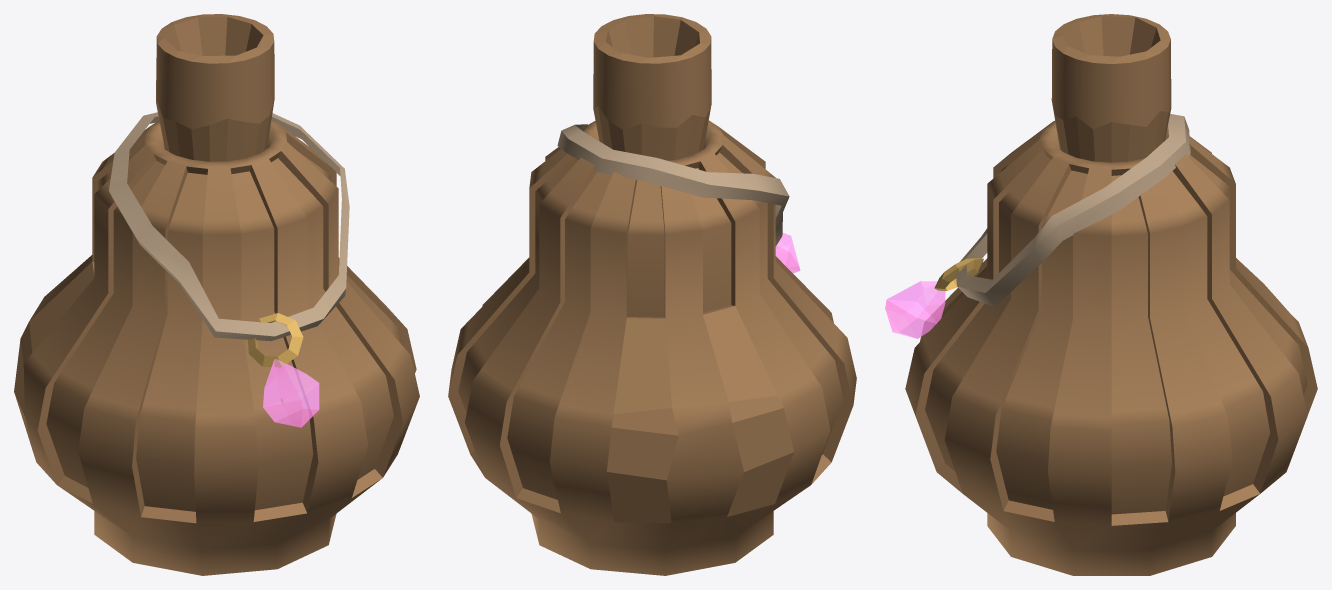
Rendered from bottle_asset_2.fbx.
The picture shows the model from 3 angles, left to right: view 1: azimuth 30°, elevation 25°; view 2: azimuth 150°, elevation 25°; view 3: azimuth 270°, elevation 25°; orthographic projection.
Parts seen in each view (by area): view 1: bottle, string1, gem, ring; view 2: bottle, string1, gem; view 3: bottle, string1, gem, ring.
Boxes of the visible parts, box(x1,y1,x2,y2) form: bottle: box(14, 14, 419, 575); string1: box(109, 112, 349, 341); gem: box(263, 359, 319, 427); ring: box(248, 313, 303, 367); bottle: box(448, 14, 856, 575); string1: box(557, 124, 789, 246); gem: box(775, 233, 800, 273); bottle: box(905, 14, 1317, 575); string1: box(956, 114, 1190, 306); gem: box(885, 281, 945, 338); ring: box(934, 258, 983, 290).
Size of the model in its own units: 3.32 by 4.38 by 3.48.
